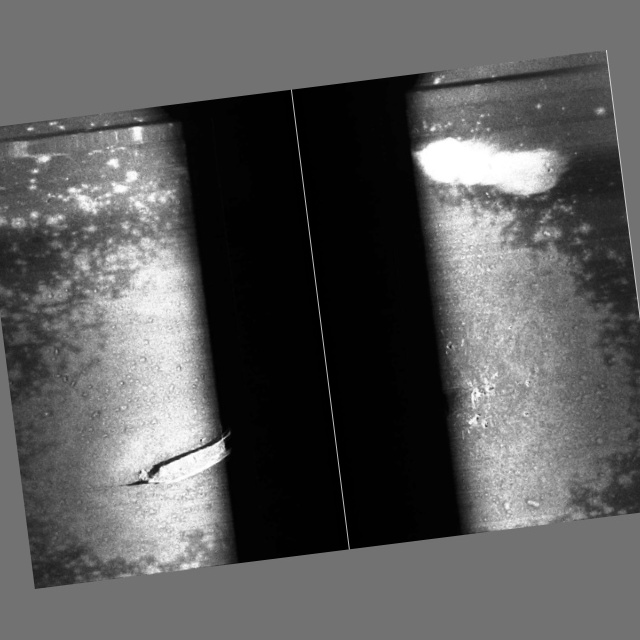Shipwreck: (124, 324, 536, 488)
